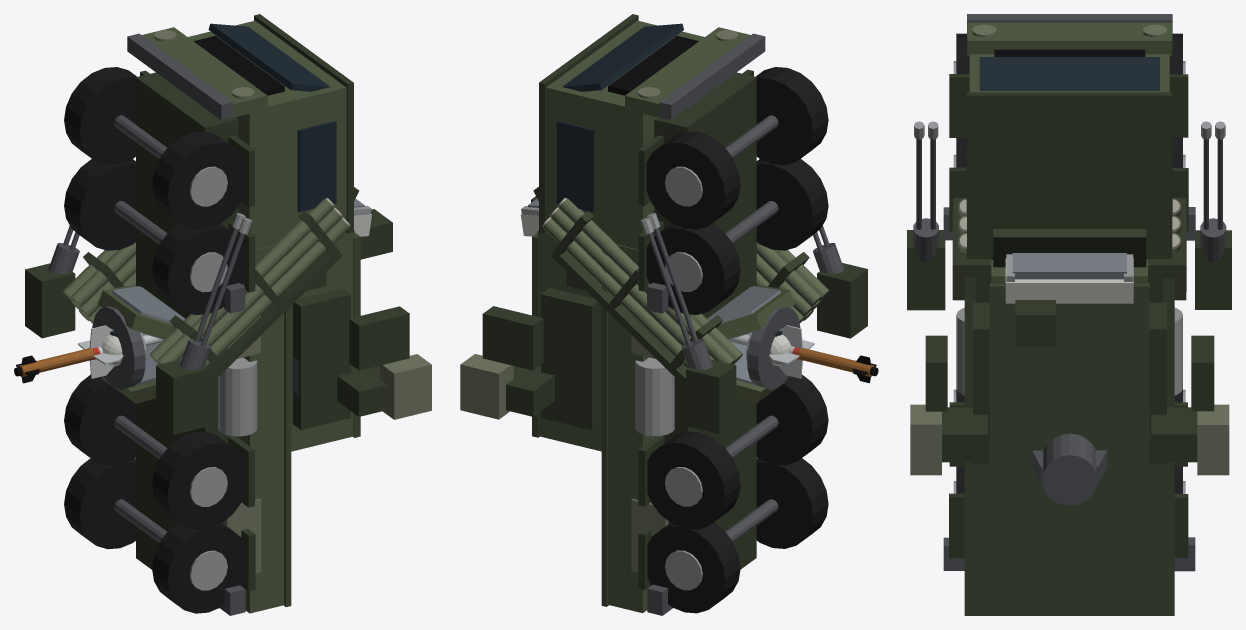
The model's file is KSArmory_MeshAtlas.glb.
3 renders of one model, left to right at view 1: azimuth 30°, elevation 25°; view 2: azimuth 150°, elevation 25°; view 3: azimuth 270°, elevation 25°, orthographic. The views are drawn at different scales.
Visible parts, largest first — view 1: AirDefence_Subpart_Chassis, AirDefence_Subpart_Turret, AirDefence_Subpart_Pods, AirDefence_Subpart_Guns, AirDefence_Subpart_Radar, AirDefence_Subpart_Fins, AirDefence_Subpart_Missile; view 2: AirDefence_Subpart_Chassis, AirDefence_Subpart_Turret, AirDefence_Subpart_Pods, AirDefence_Subpart_Guns, AirDefence_Subpart_Radar, AirDefence_Subpart_Fins, AirDefence_Subpart_Missile; view 3: AirDefence_Subpart_Chassis, AirDefence_Subpart_Turret, AirDefence_Subpart_Guns, AirDefence_Subpart_Pods.
Boxes of the visible parts, x1,y1,x2,y2 form: AirDefence_Subpart_Chassis: (64, 14, 353, 615); AirDefence_Subpart_Turret: (291, 187, 431, 451); AirDefence_Subpart_Pods: (63, 198, 350, 383); AirDefence_Subpart_Guns: (25, 213, 251, 434); AirDefence_Subpart_Radar: (92, 285, 185, 403); AirDefence_Subpart_Fins: (16, 325, 123, 383); AirDefence_Subpart_Missile: (14, 335, 163, 376); AirDefence_Subpart_Chassis: (539, 14, 828, 615); AirDefence_Subpart_Turret: (460, 187, 601, 451); AirDefence_Subpart_Pods: (542, 198, 829, 382); AirDefence_Subpart_Guns: (640, 213, 867, 434); AirDefence_Subpart_Radar: (707, 285, 800, 403); AirDefence_Subpart_Fins: (769, 325, 876, 382); AirDefence_Subpart_Missile: (729, 334, 878, 376); AirDefence_Subpart_Chassis: (943, 14, 1195, 615); AirDefence_Subpart_Turret: (910, 229, 1229, 505); AirDefence_Subpart_Guns: (907, 121, 1231, 310); AirDefence_Subpart_Pods: (952, 198, 1186, 300).
Size of the model in its own units: 5.72 by 8.04 by 4.18.
Materials: 1 (1 with a texture image).
